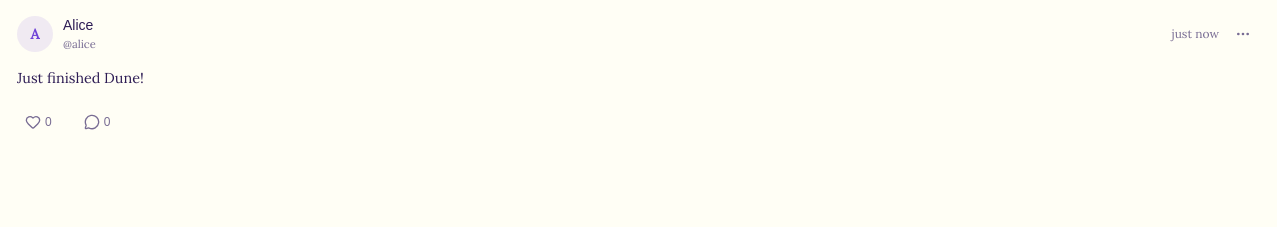
Test: PostCard — edit › discards changes and returns to view mode when X is clicked
This screenshot has width=1277, height=227.
Click the button named "Post options": (1243, 34) [1229,20,1257,48]
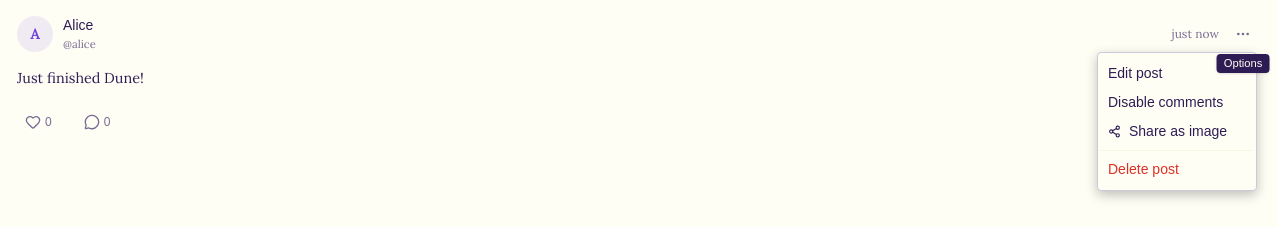
Click the menu item "Edit post": (1135, 73) [1108,65,1162,81]
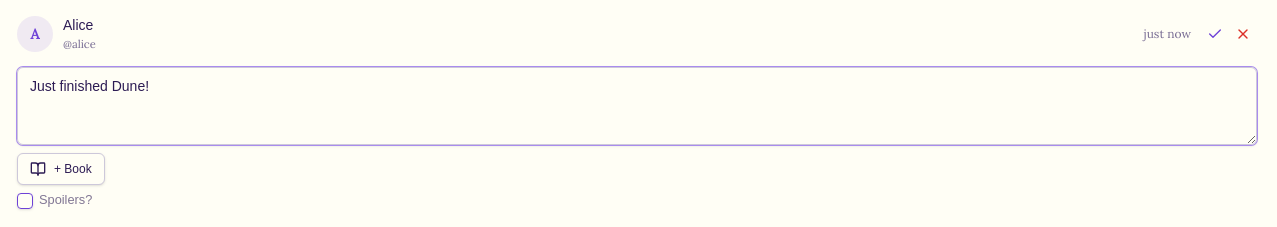
Replace the text in the text box named "Edit post content" with "Something else": (637, 106) [17,67,1257,145]
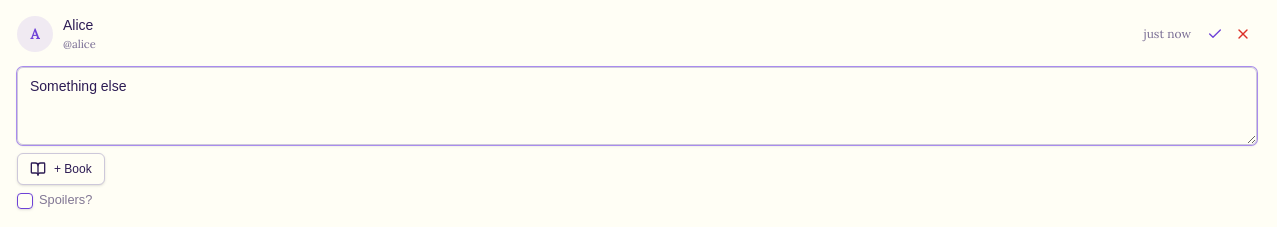
Click the button named "Discard changes": (1243, 34) [1229,20,1257,48]
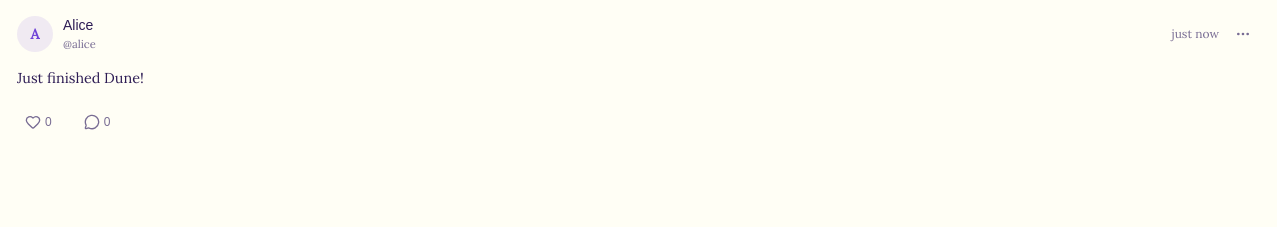
Now the text "Just finished Dune!" is shown, box [17,69,144,87]
